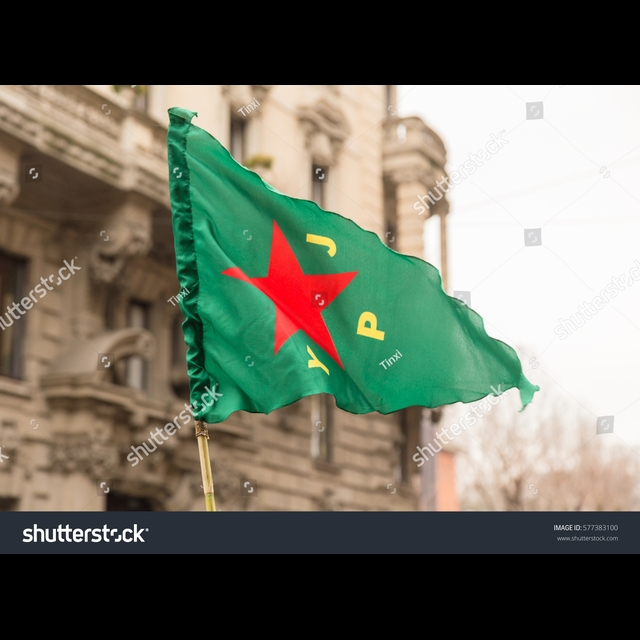YPJ: (217, 226, 391, 376)
